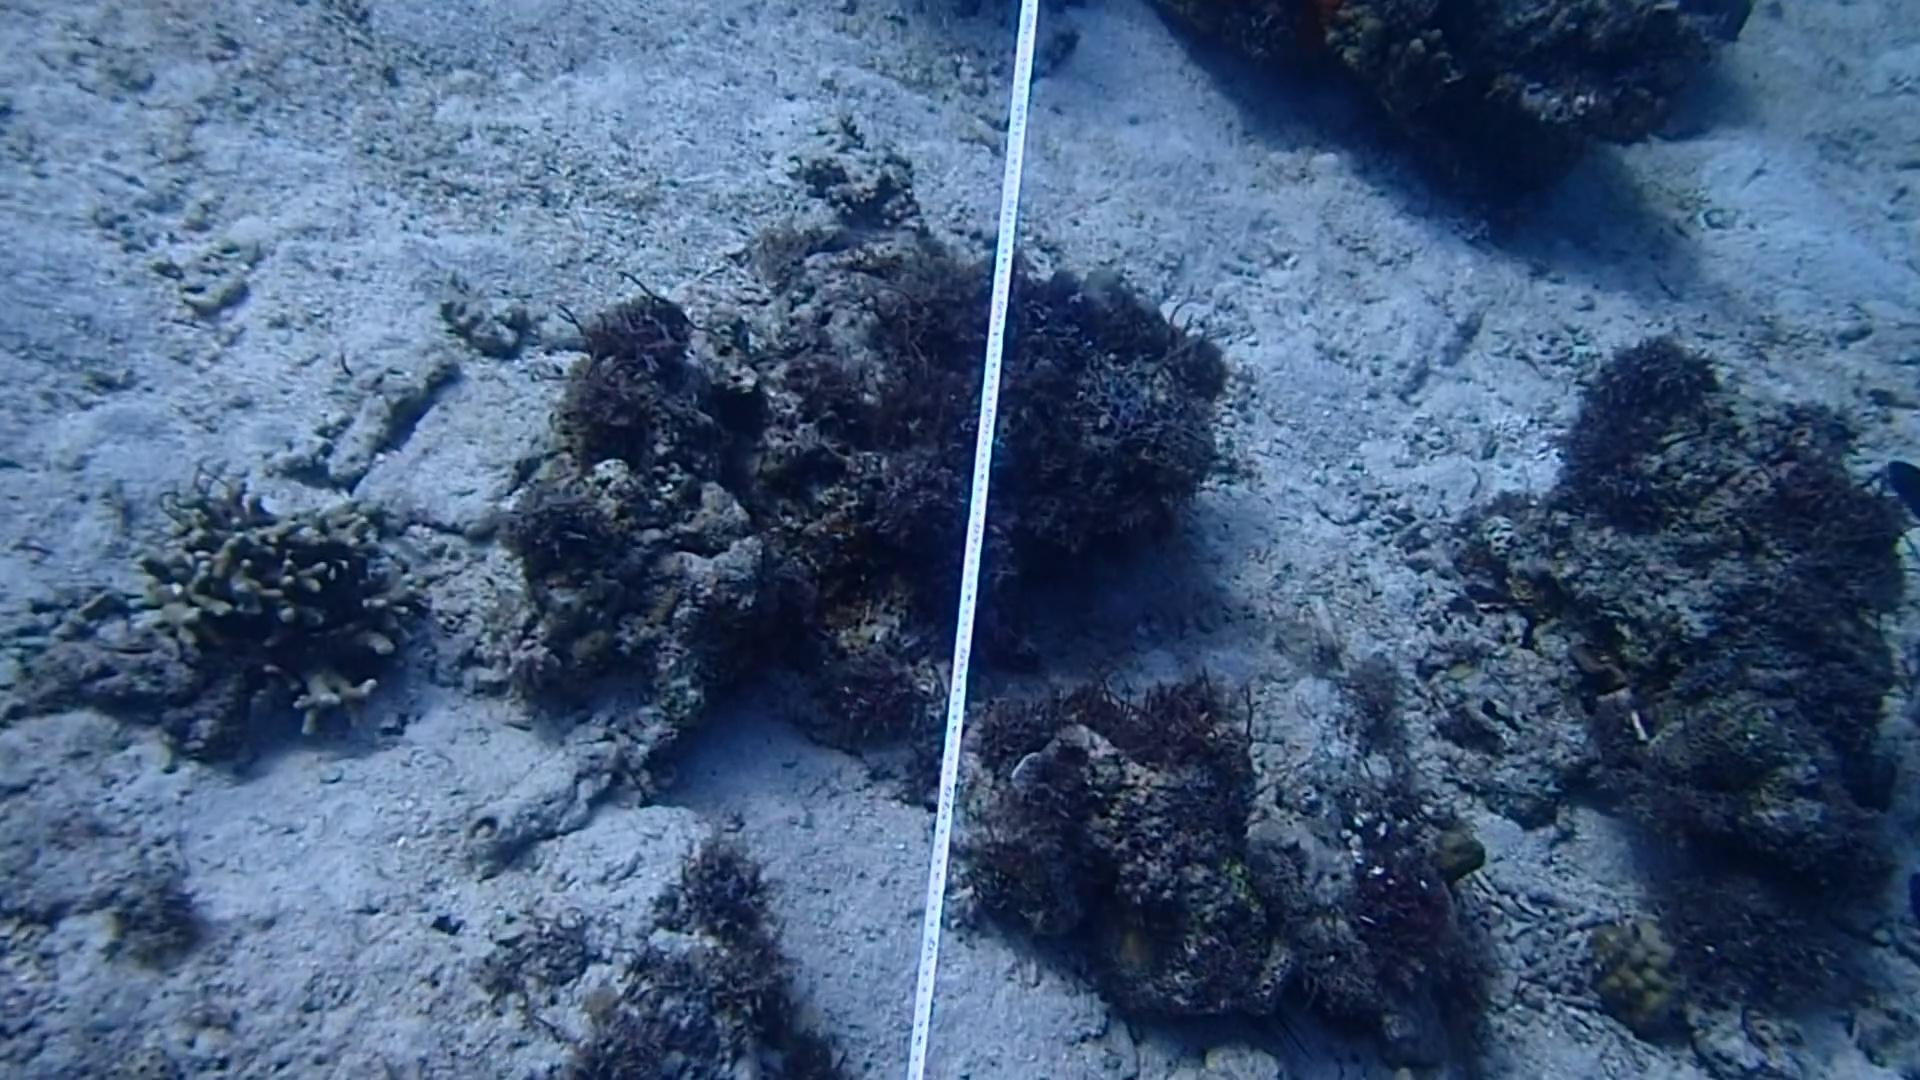Dark Fish: (1883, 450, 1920, 527)
